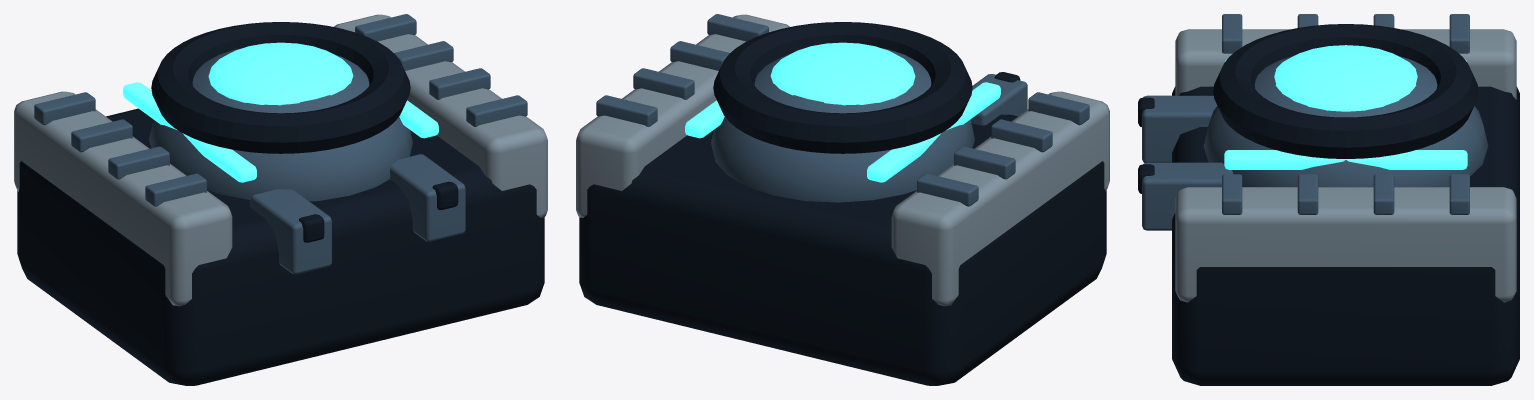
File: station-emitter.glb
The picture shows the model from 3 angles, left to right: view 1: azimuth 30°, elevation 25°; view 2: azimuth 150°, elevation 25°; view 3: azimuth 270°, elevation 25°; orthographic projection. The views are drawn at different scales.
Parts seen in each view (by area): view 1: Cube; view 2: Cube; view 3: Cube.
Part boxes in pixels (x1,y1,x2,y2): Cube: (14, 14, 547, 385); Cube: (576, 14, 1109, 385); Cube: (1138, 14, 1519, 385).
Bounding box in the file's own units: 1.42 × 0.835 × 1.21.
